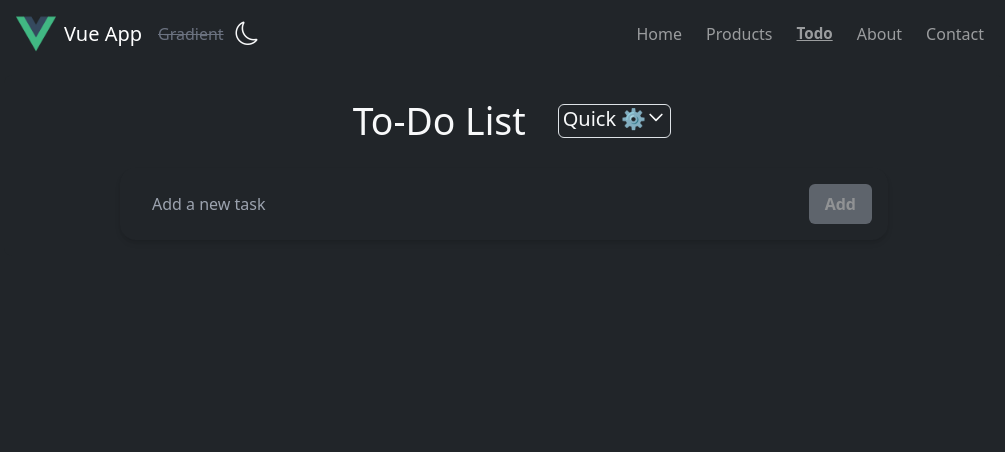
Test: ToDo View Page › GPT Test: add a new task by selecting from combobox using tab and enter
Expected: the button "Add" is disabled, [809,184,872,224]
Focus the dropdown labelled "Add a new task": coordinates (465, 204) [136,184,793,224]
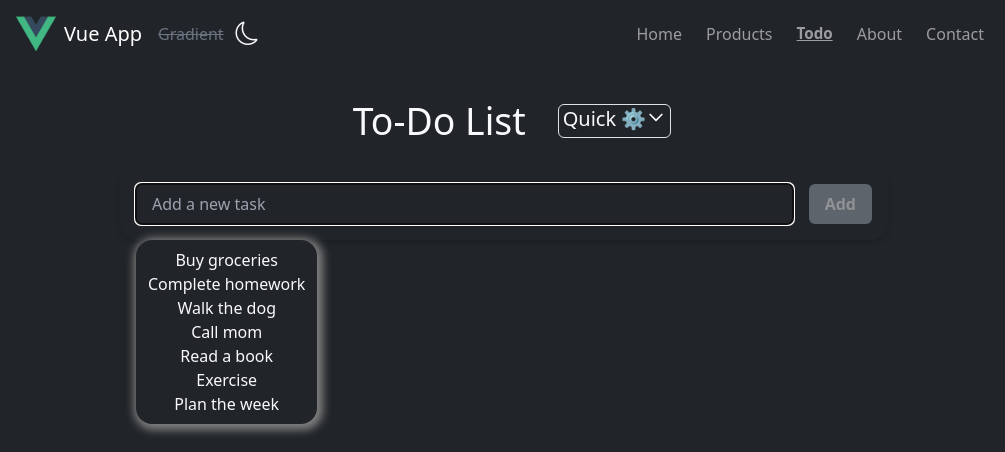
Press Downarrow Downarrow Enter in the dropdown labelled "Add a new task", box [136,184,793,224]
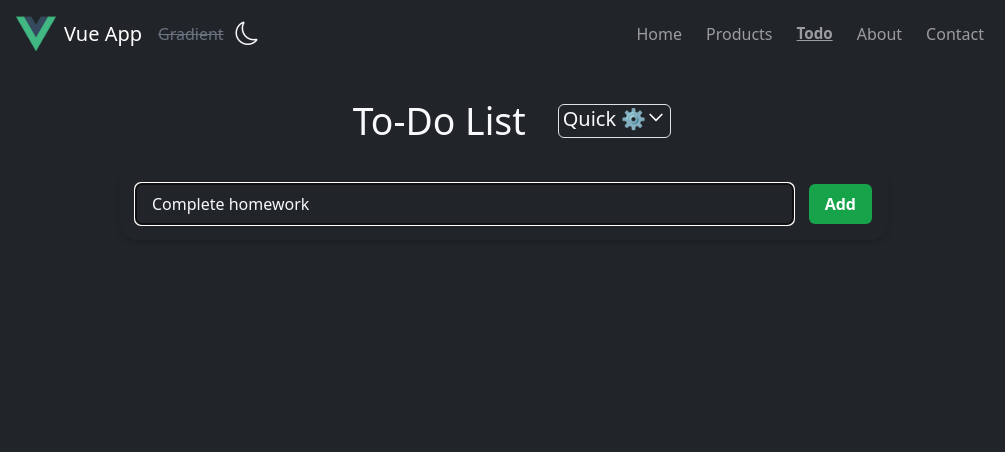
Expected: the button "add" is enabled
Click the button "Add": coordinates (841, 204) [809,184,872,224]
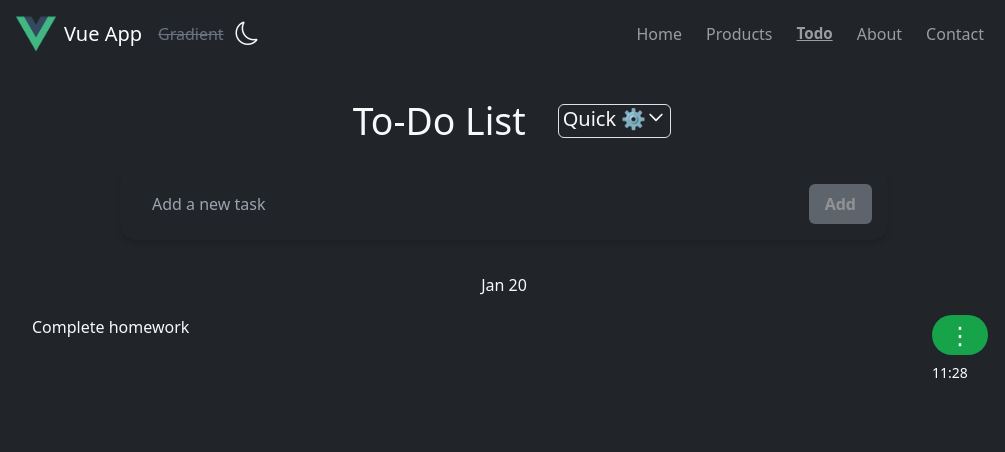
Now the button "Add" is disabled, box [809,184,872,224]
